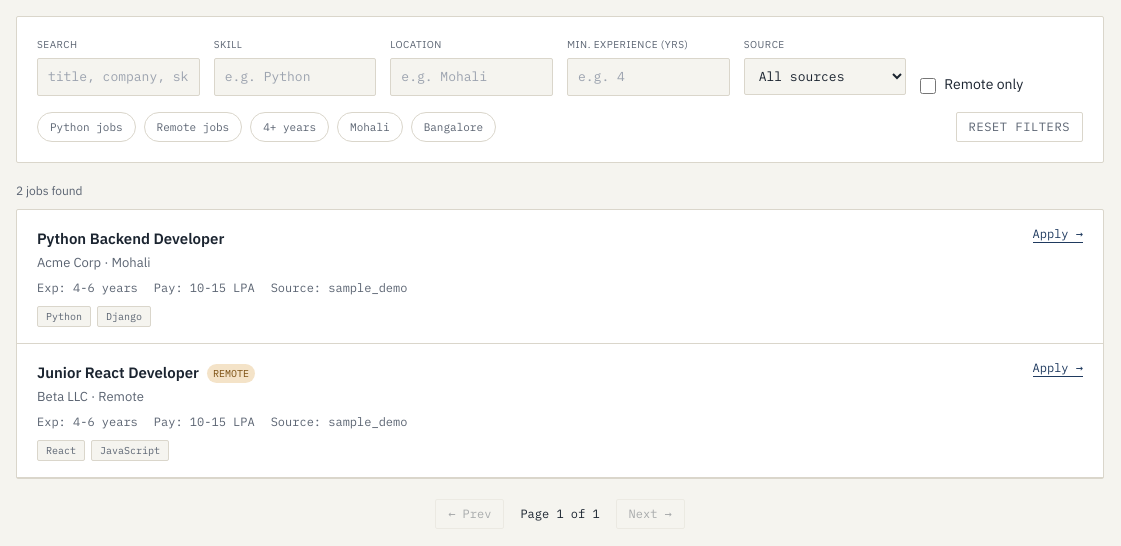
Test: Search -> filter -> results integration flow › re-queries the API with the skill filter applied when the user types a skill
In the field labelled "Skill": (295, 77) top-left (214, 58), bottom-right (376, 96), type "Python"
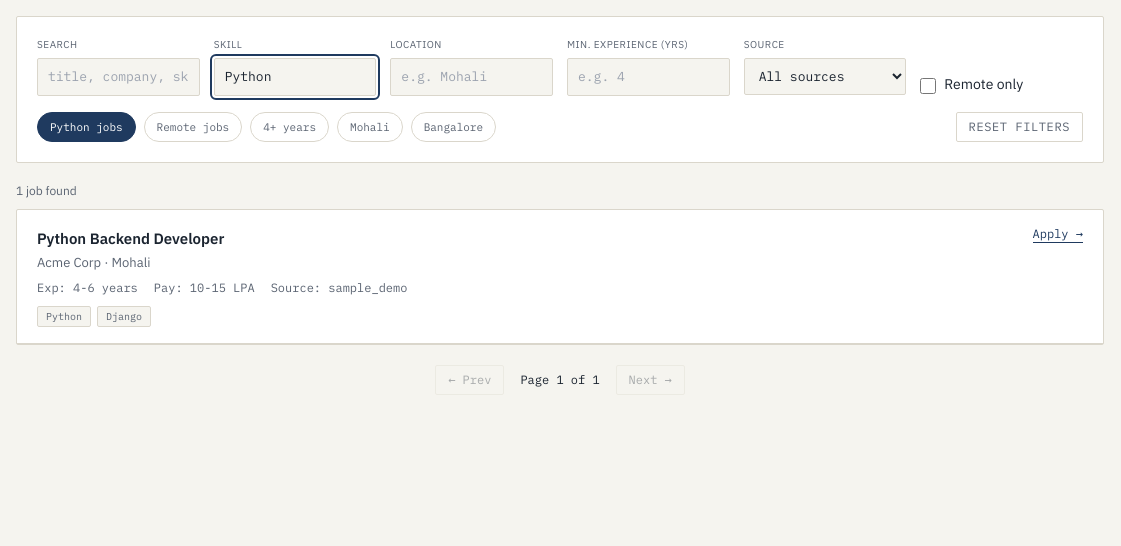
Expected: the text "Python" is shown, top-left (37, 306), bottom-right (91, 327)
Expected: the text "1 job found" is shown, top-left (16, 183), bottom-right (77, 199)
